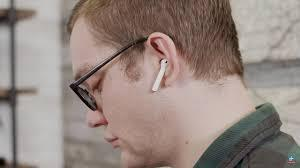earphone: (149, 55, 174, 93)
